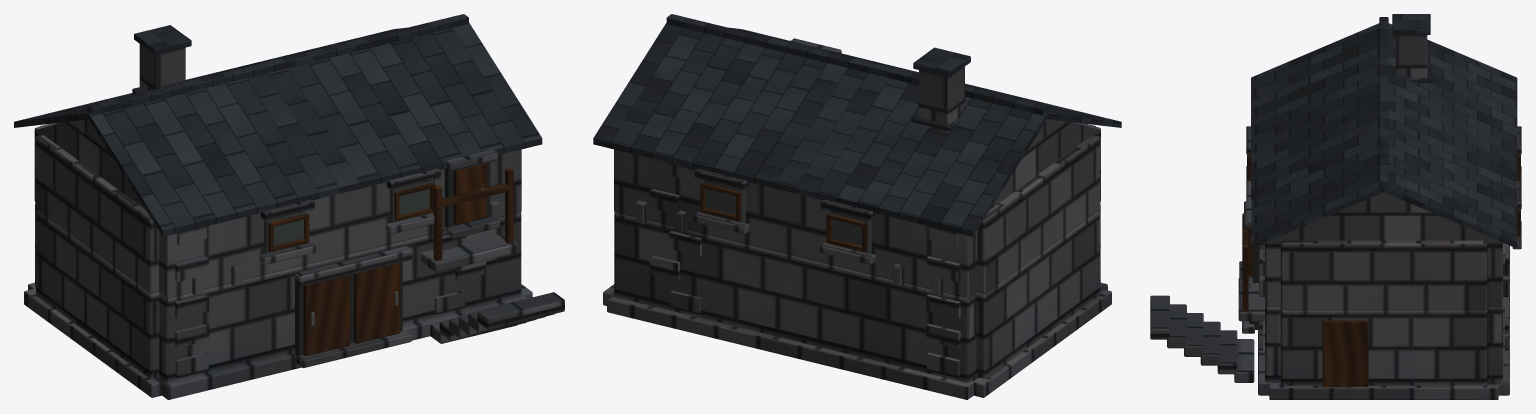
Rendered from barrosan_house_gold_02.glb.
3 renders of one model, left to right at view 1: azimuth 30°, elevation 25°; view 2: azimuth 150°, elevation 25°; view 3: azimuth 270°, elevation 25°, orthographic. The views are drawn at different scales.
Visible parts, largest first — view 1: LOD0_Granite, LOD0_Weathered_Slate, LOD1_Weathered_Slate, LOD0_Weathered_Timber, LOD0_Damp_Foundation, LOD1_Granite, LOD0_Recessed_Window, LOD0_Interior_Recess, LOD1_Weathered_Timber; view 2: LOD0_Granite, LOD0_Weathered_Slate, LOD1_Weathered_Slate, LOD0_Damp_Foundation, LOD1_Granite, LOD0_Recessed_Window, LOD0_Weathered_Timber, LOD1_Damp_Foundation; view 3: LOD0_Granite, LOD0_Weathered_Slate, LOD1_Weathered_Slate, LOD0_Damp_Foundation, LOD0_Weathered_Timber, LOD1_Granite, LOD0_Interior_Recess.
Part boxes in pixels (bbox=[...]): LOD0_Granite: bbox=[34, 44, 564, 382]; LOD0_Weathered_Slate: bbox=[14, 14, 542, 236]; LOD1_Weathered_Slate: bbox=[14, 17, 542, 236]; LOD0_Weathered_Timber: bbox=[268, 163, 513, 355]; LOD0_Damp_Foundation: bbox=[24, 282, 532, 399]; LOD1_Granite: bbox=[34, 44, 564, 382]; LOD0_Recessed_Window: bbox=[264, 180, 431, 253]; LOD0_Interior_Recess: bbox=[295, 162, 490, 355]; LOD1_Weathered_Timber: bbox=[268, 164, 513, 355]; LOD0_Granite: bbox=[614, 38, 1100, 382]; LOD0_Weathered_Slate: bbox=[593, 14, 1121, 236]; LOD1_Weathered_Slate: bbox=[593, 14, 1121, 236]; LOD0_Damp_Foundation: bbox=[603, 282, 1111, 399]; LOD1_Granite: bbox=[614, 38, 1100, 378]; LOD0_Recessed_Window: bbox=[704, 180, 871, 253]; LOD0_Weathered_Timber: bbox=[700, 182, 867, 252]; LOD1_Damp_Foundation: bbox=[603, 286, 1111, 399]; LOD0_Granite: bbox=[1150, 35, 1521, 385]; LOD0_Weathered_Slate: bbox=[1251, 14, 1517, 248]; LOD1_Weathered_Slate: bbox=[1251, 18, 1517, 247]; LOD0_Damp_Foundation: bbox=[1258, 243, 1509, 399]; LOD0_Weathered_Timber: bbox=[1242, 154, 1520, 386]; LOD1_Granite: bbox=[1150, 35, 1521, 385]; LOD0_Interior_Recess: bbox=[1252, 244, 1261, 329].
Size of what is drawn, in the model's own units: 10.3 by 7.26 by 9.71.
7 materials, 4 textured.
